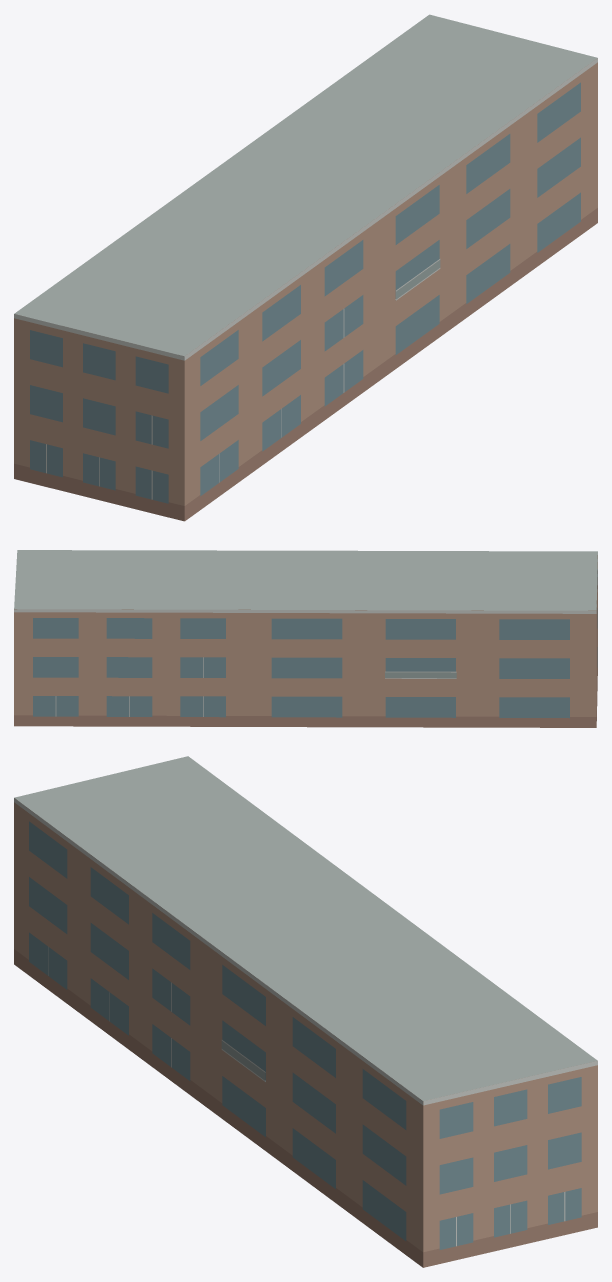
The model's file is survey-upis-32694507.glb.
3 views of the same model, one above another, from view 1: azimuth 30°, elevation 25°; view 2: azimuth 150°, elevation 25°; view 3: azimuth 270°, elevation 25° (orthographic). The views are drawn at different scales.
Visible parts, largest first — view 1: survey-upis-32694507.tmp; view 2: survey-upis-32694507.tmp; view 3: survey-upis-32694507.tmp.
Boxes of the visible parts, x1,y1,x2,y2 form: survey-upis-32694507.tmp: (14, 14, 597, 521); survey-upis-32694507.tmp: (14, 550, 597, 727); survey-upis-32694507.tmp: (14, 756, 597, 1267).
Size of the model in its own units: 40.62 by 9.15 by 29.05.
